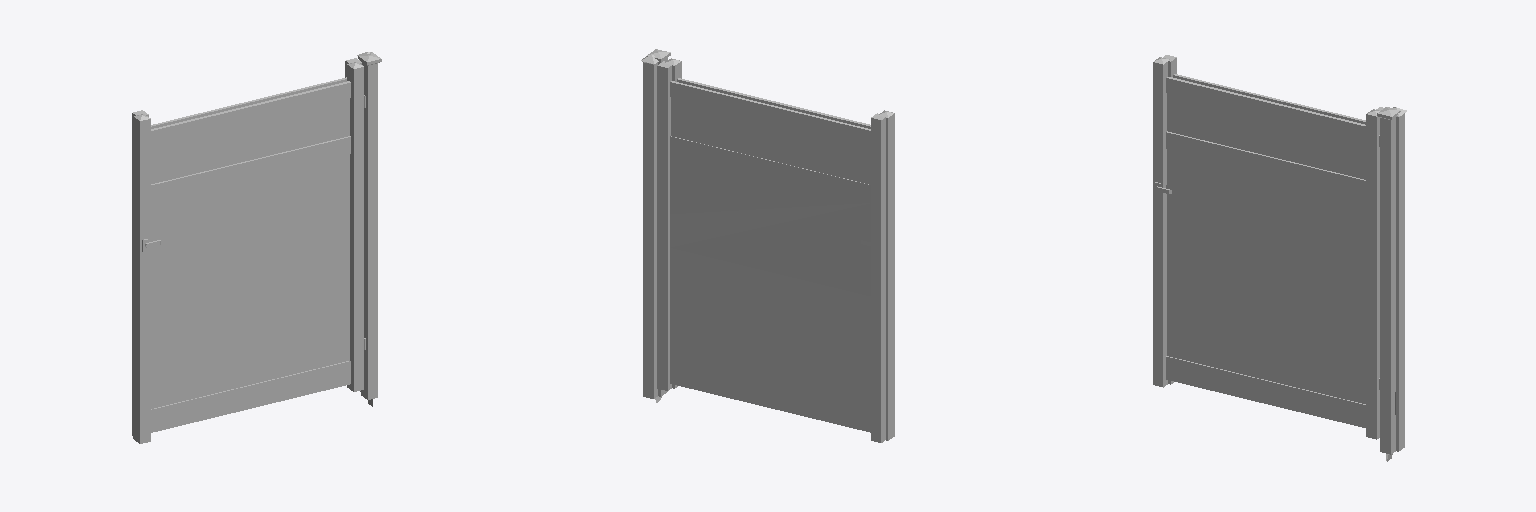
Rendered from prop_fncres_06gater.obj.
The picture shows the model from 3 angles: view 1: azimuth 30°, elevation 25°; view 2: azimuth 150°, elevation 25°; view 3: azimuth 330°, elevation 25°; orthographic projection.
Size of the model in its own units: 1.71 by 2.36 by 0.1841.